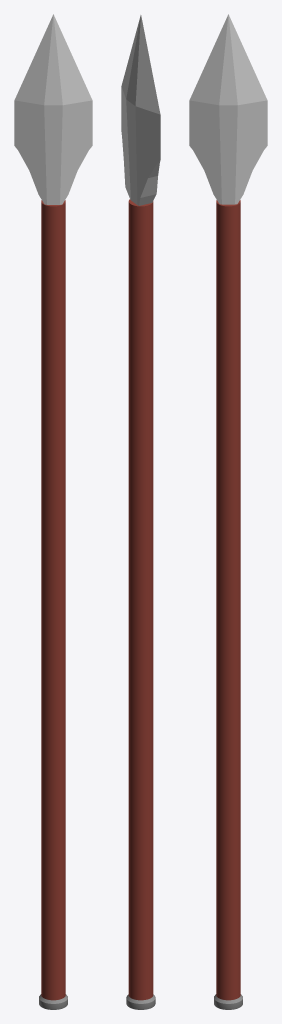
File: spear.fbx
The picture shows the model from 3 angles, left to right: view 1: azimuth 90°, elevation 25°; view 2: azimuth 210°, elevation 25°; view 3: azimuth 270°, elevation 25°; orthographic projection.
Parts seen in each view (by area): view 1: Cylinder, Cube.001; view 2: Cylinder, Cube.001; view 3: Cylinder, Cube.001.
Part boxes in pixels (left/top/right/bottom): Cylinder: left=39, top=200, right=67, bottom=1009; Cube.001: left=14, top=14, right=92, bottom=204; Cylinder: left=126, top=199, right=155, bottom=1009; Cube.001: left=121, top=15, right=160, bottom=205; Cylinder: left=214, top=200, right=242, bottom=1009; Cube.001: left=189, top=14, right=267, bottom=204.
Size of the model in its own units: 4.02 by 150 by 10.72.
